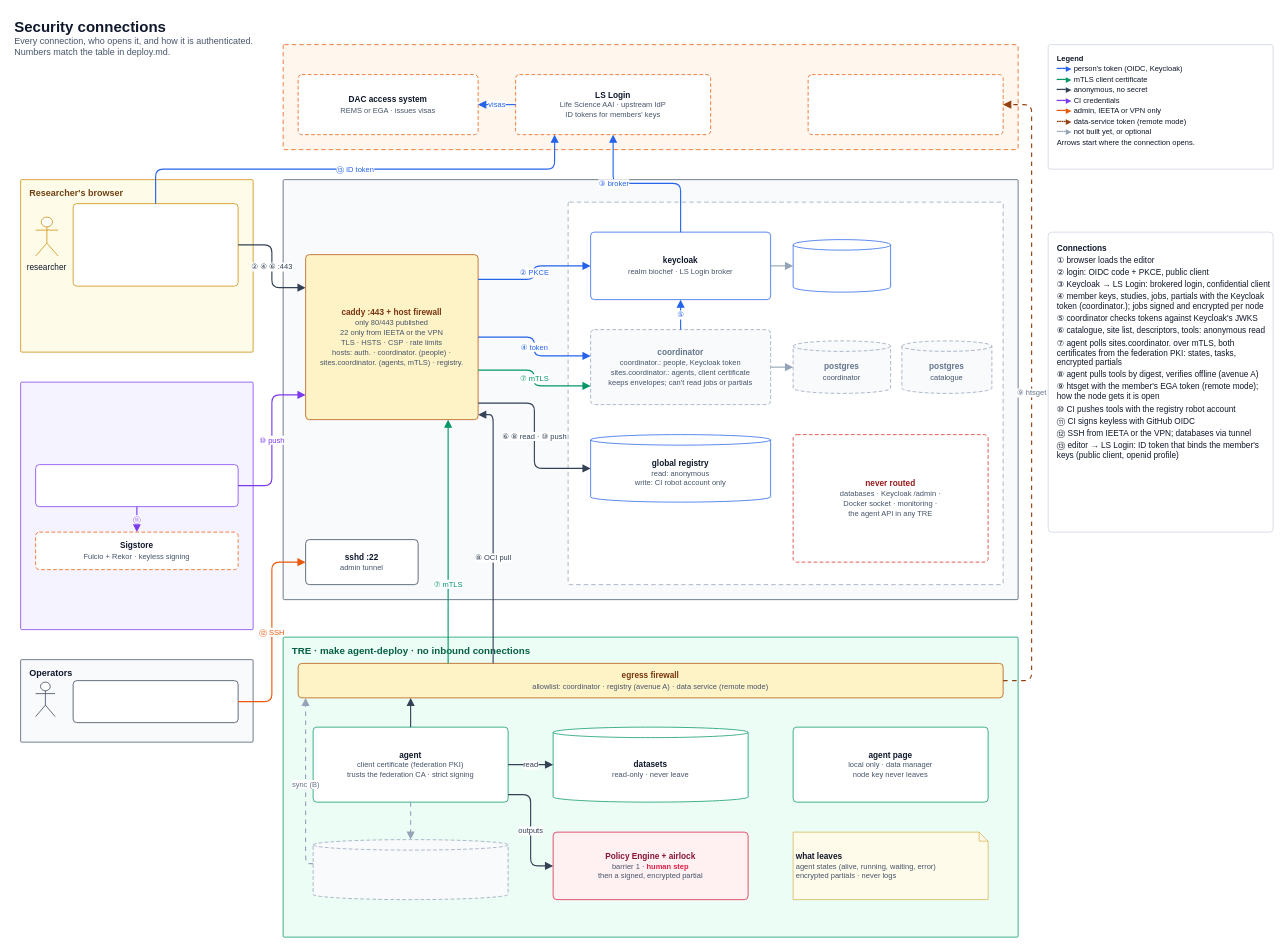
The diagram is 1286 pixels wide and 950 high, and some of its shapes have lost their labels. The shapes that lost their labels are listed below. From the top down, each one's box as (x1, y1, x2, y2) in pixels, then its label:
(282, 44, 1018, 150): External services · not run by BioChef
(807, 74, 1003, 135): CEGA / FEGA htsget · EGA AAI token
(72, 203, 238, 286): editor holds the member keys signs jobs, encrypts per node
(792, 239, 891, 292): postgres keycloak
(282, 179, 1018, 600): Central server · make deploy
(567, 201, 1003, 585): network: internal · no published ports
(35, 464, 238, 507): tools hub workflows build, sign, publish
(20, 381, 253, 630): GitHub
(35, 681, 55, 717): operator
(72, 680, 238, 723): IEETA network or VPN
(312, 839, 508, 900): silo registry · avenue B synced, or an encrypted tar
